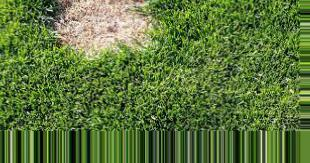patch: (88, 14, 119, 46), (130, 21, 156, 47), (61, 19, 83, 44), (95, 3, 125, 9), (74, 4, 86, 12)
